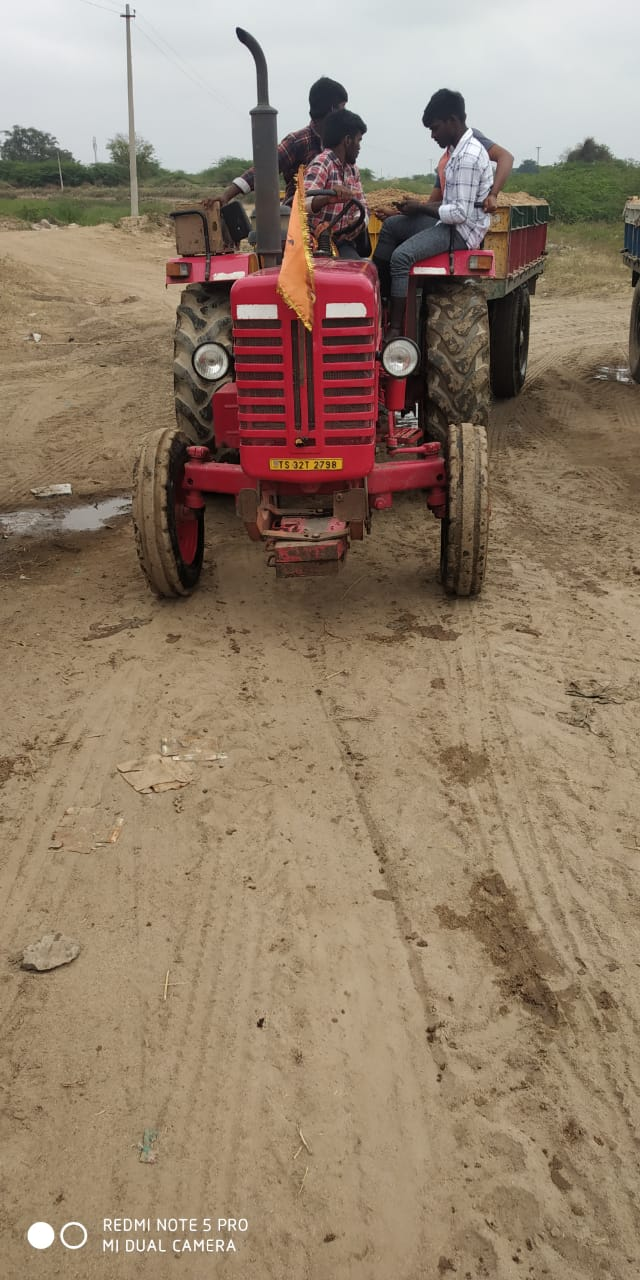num_plate: (267, 456, 346, 471)
